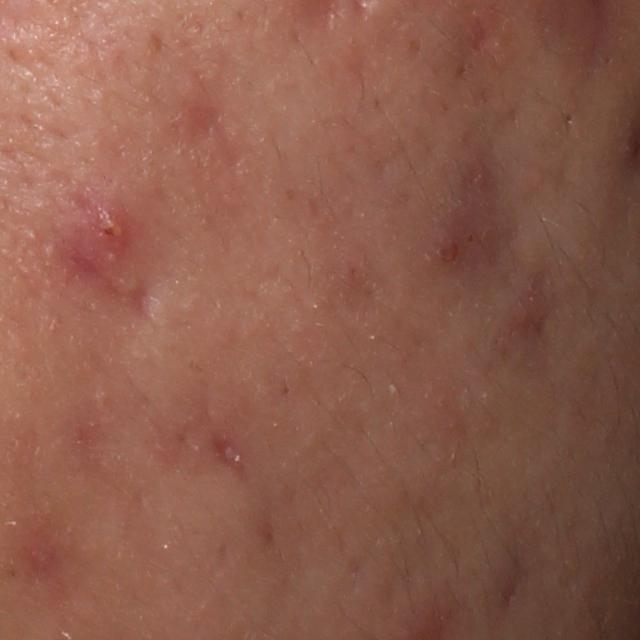atrophic_scar: (423, 132, 540, 281), (68, 253, 159, 331), (203, 420, 259, 489)
papule: (76, 200, 143, 257)
